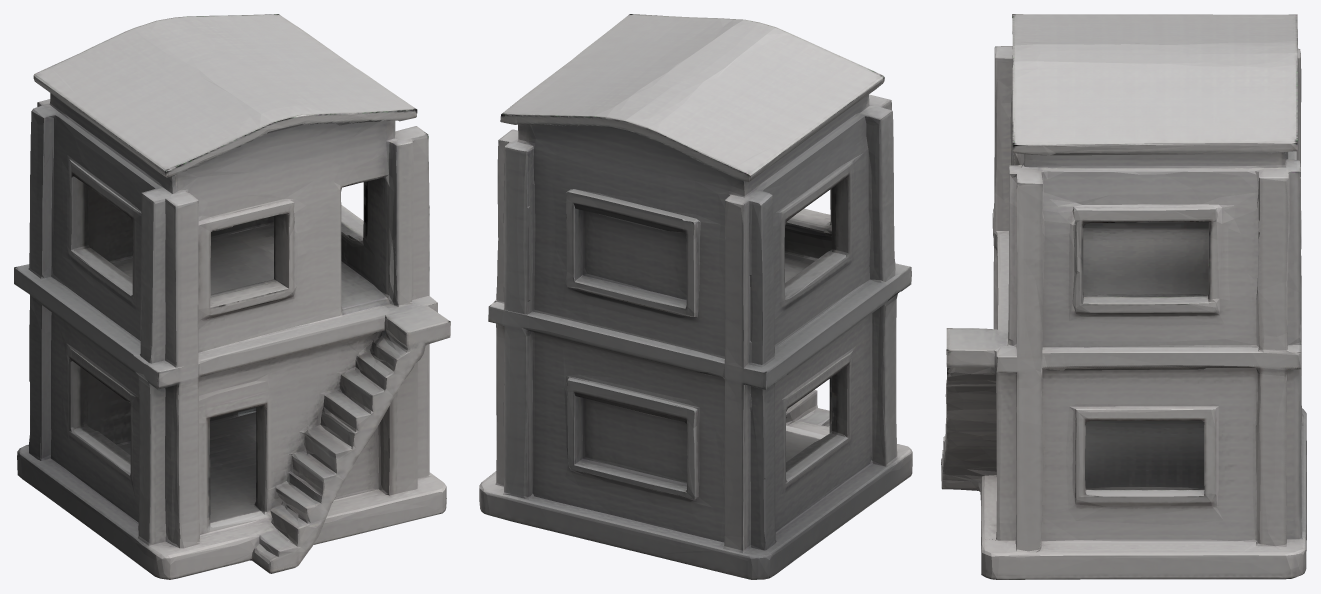
Rendered from HouseWithStairs.glb.
The picture shows the model from 3 angles, left to right: view 1: azimuth 30°, elevation 25°; view 2: azimuth 150°, elevation 25°; view 3: azimuth 270°, elevation 25°; orthographic projection. The views are drawn at different scales.
Parts seen in each view (by area): view 1: world; view 2: world; view 3: world.
Part boxes in pixels (x1,y1,x2,y2): world: [14, 14, 450, 579]; world: [479, 14, 912, 579]; world: [941, 14, 1306, 579].
Bounding box in the file's own units: 0.3603 × 0.4975 × 0.3667.
1 material, 1 textured.
